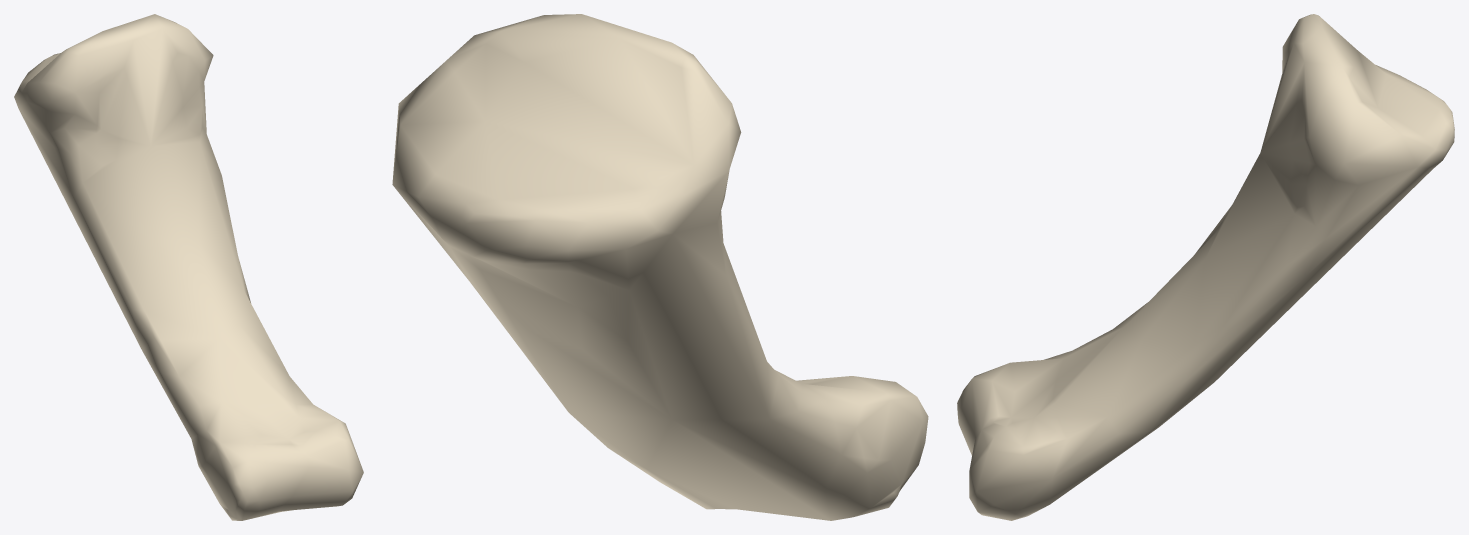
Rendered from middle-phalanx-of-fourth-finger-of-hand-l.glb.
3 views of the same model, side by side, from view 1: azimuth 30°, elevation 25°; view 2: azimuth 150°, elevation 25°; view 3: azimuth 270°, elevation 25° (orthographic). The views are drawn at different scales.
Visible parts, largest first — view 1: Middle phalanx of fourth finger of hand.l; view 2: Middle phalanx of fourth finger of hand.l; view 3: Middle phalanx of fourth finger of hand.l.
Part boxes in pixels (<box>): Middle phalanx of fourth finger of hand.l: <box>14,14,363,520</box>; Middle phalanx of fourth finger of hand.l: <box>392,14,928,520</box>; Middle phalanx of fourth finger of hand.l: <box>957,14,1454,520</box>.
Bounding box in the file's own units: 0.0126 × 0.0248 × 0.0251.
